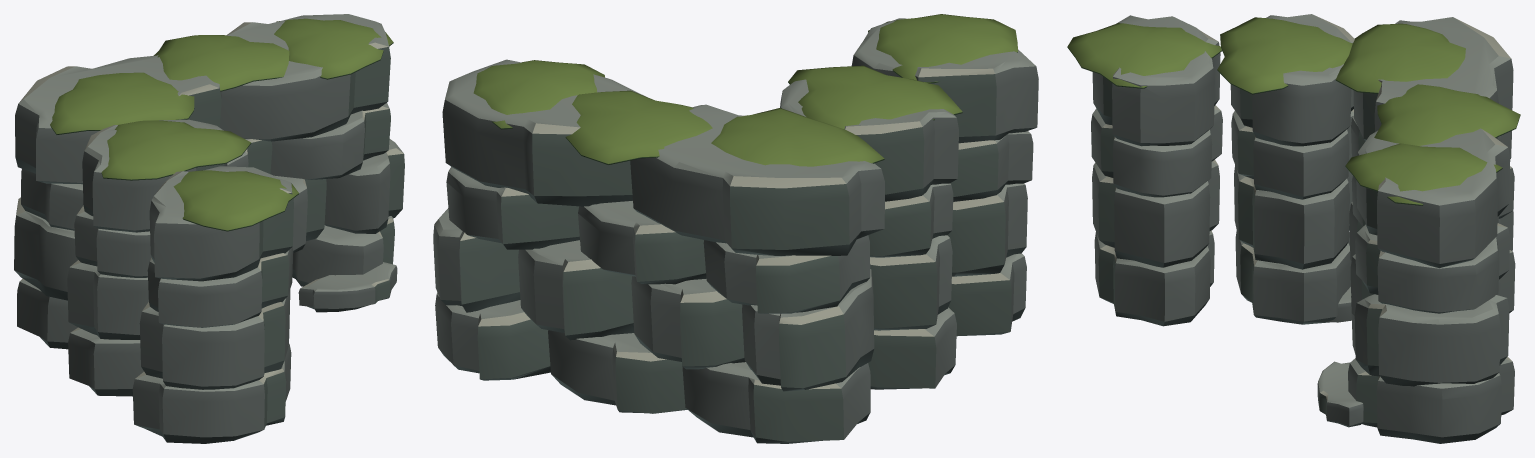
Rendered from fw_cliff_corner.glb.
The picture shows the model from 3 angles, left to right: view 1: azimuth 30°, elevation 25°; view 2: azimuth 150°, elevation 25°; view 3: azimuth 270°, elevation 25°; orthographic projection. The views are drawn at different scales.
Parts seen in each view (by area): view 1: body; view 2: body; view 3: body.
Boxes of the visible parts, box(x1,y1,x2,y2) form: body: box(14, 14, 404, 443); body: box(433, 14, 1038, 443); body: box(1067, 14, 1520, 443).
Bounding box in the file's own units: 3.44 × 2.08 × 3.35.
